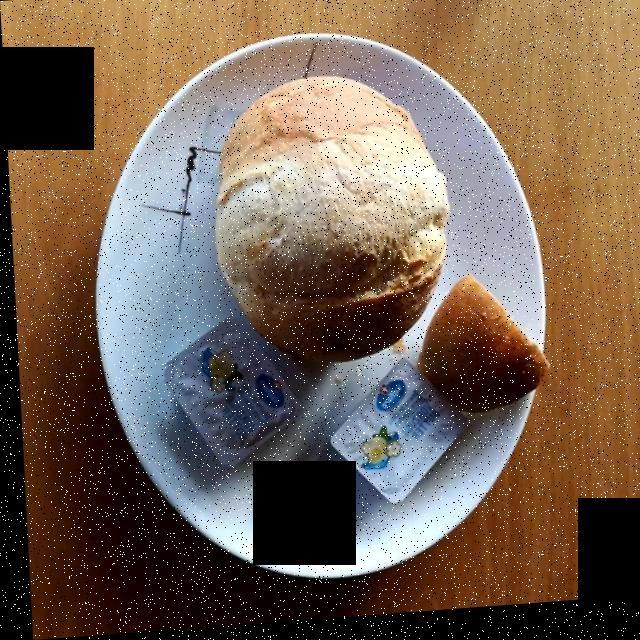butter: (151, 310, 462, 499)
